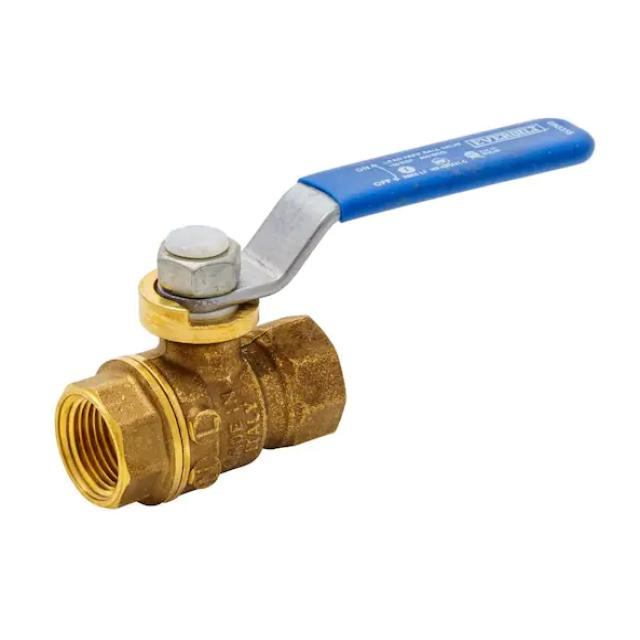Lever Handle Valve Threaded: (47, 98, 622, 370)
